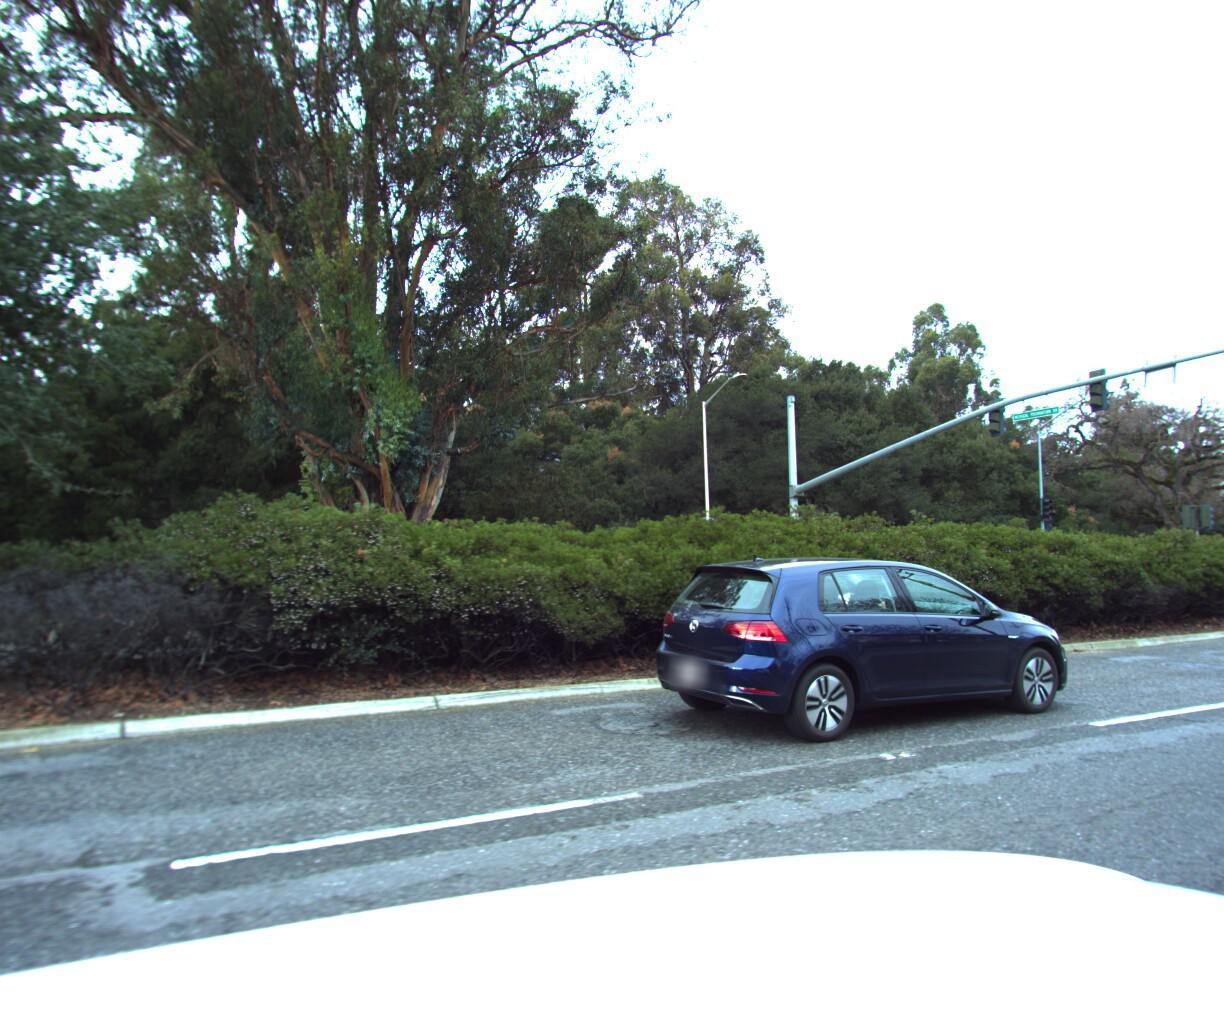car: (631, 547, 1081, 752)
